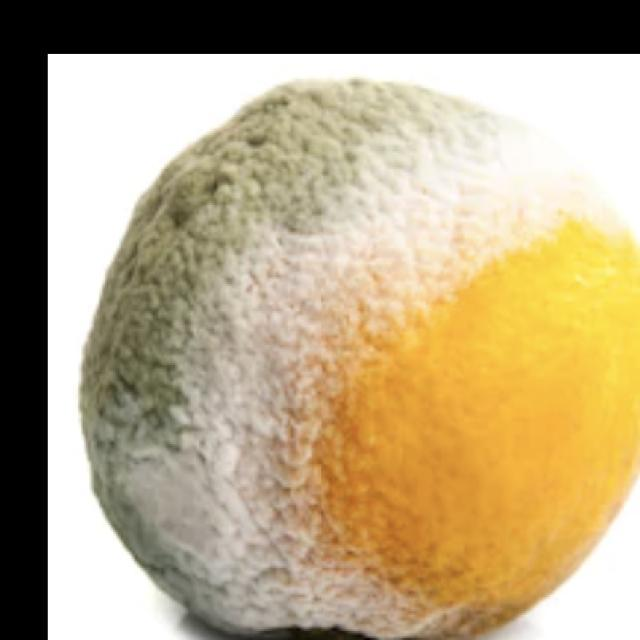sangat-busuk: (81, 79, 639, 639)
